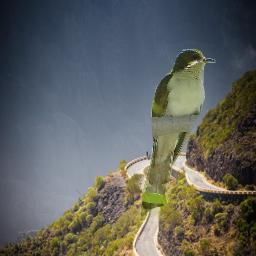Cuckoo: (139, 49, 216, 221)
